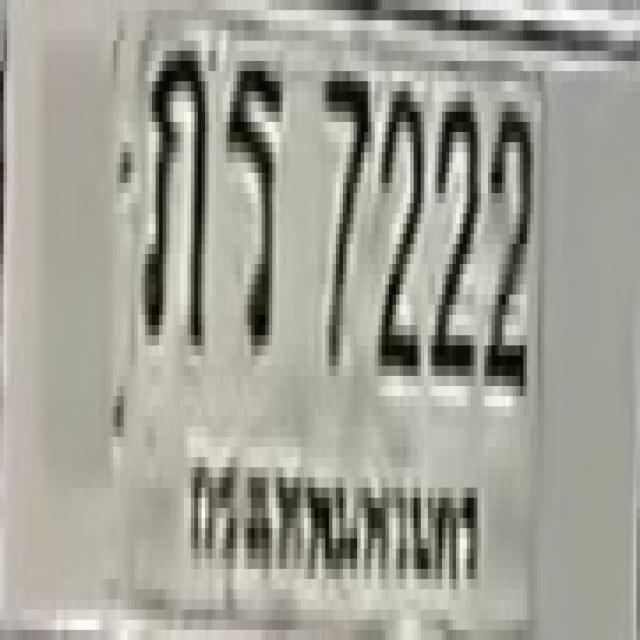-: (138, 36, 205, 330), (223, 46, 279, 340)
2: (481, 91, 530, 376), (428, 86, 477, 371), (375, 76, 421, 361)
7: (320, 56, 366, 361)
BKK: (181, 434, 486, 613)
